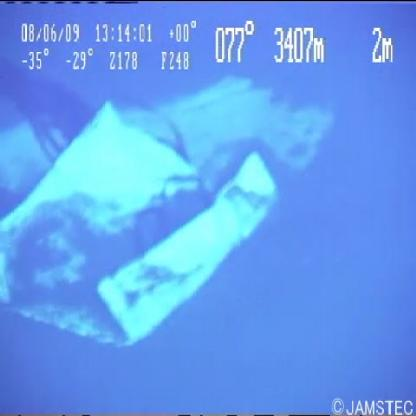Rác: (1, 71, 355, 354)
